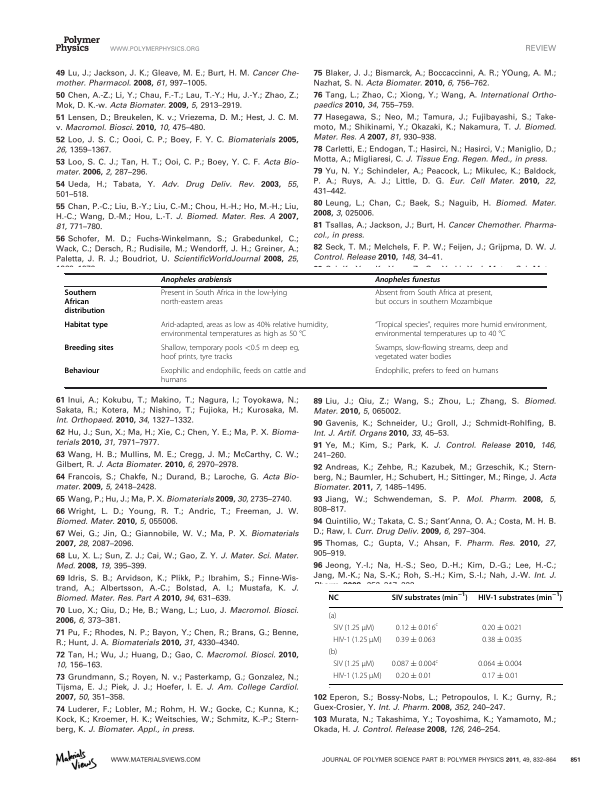borderless: (63, 272, 546, 387), (327, 589, 563, 684)
cell: (374, 321, 547, 340), (160, 321, 329, 340), (160, 367, 307, 386), (160, 344, 300, 363), (374, 344, 509, 363), (160, 289, 288, 308), (374, 289, 493, 308), (374, 367, 499, 377), (63, 289, 106, 317), (477, 592, 563, 602), (391, 592, 469, 602), (160, 276, 233, 285), (374, 276, 441, 285), (391, 658, 439, 669), (63, 344, 115, 354), (332, 635, 383, 645), (395, 622, 439, 633), (63, 321, 109, 331), (332, 672, 383, 681), (332, 623, 375, 633), (481, 623, 523, 633), (395, 635, 437, 645), (481, 635, 523, 645), (477, 660, 523, 669), (332, 660, 375, 669), (63, 367, 100, 377), (395, 672, 433, 681), (481, 672, 519, 681), (328, 593, 340, 602), (328, 611, 337, 621), (328, 648, 338, 657)
